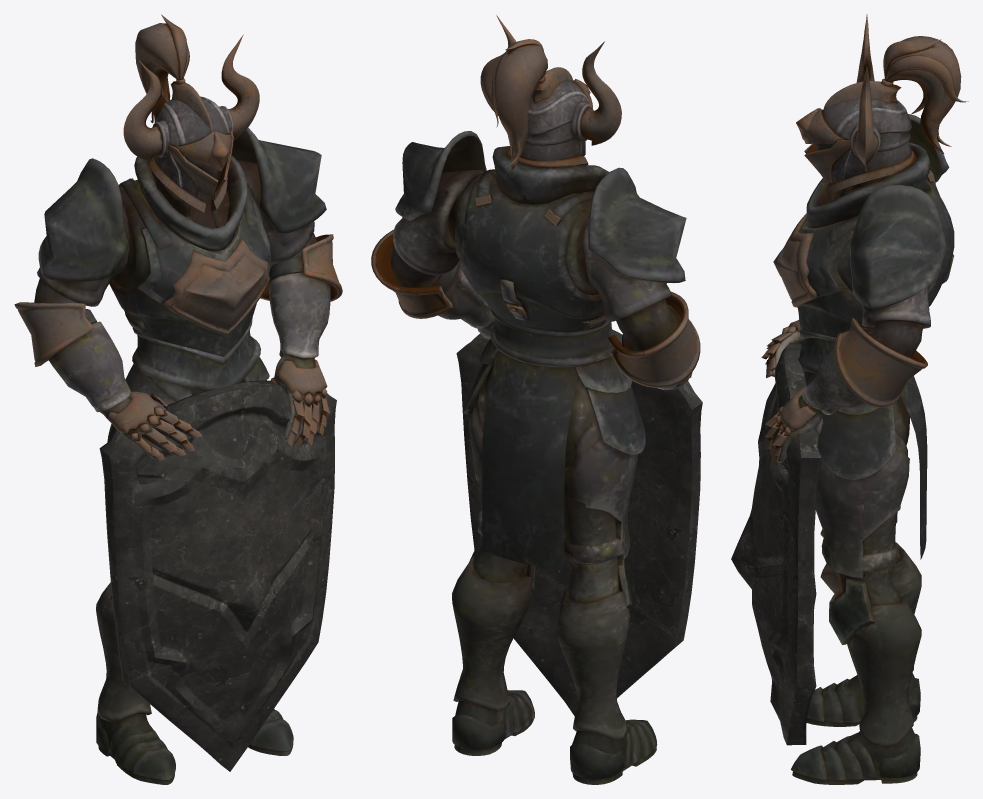
3 renders of one model, left to right at view 1: azimuth 30°, elevation 25°; view 2: azimuth 150°, elevation 25°; view 3: azimuth 270°, elevation 25°, orthographic. The views are drawn at different scales.
Visible parts, largest first — view 1: SM_Statue_BlackKnight_01_V1_LOD0; view 2: SM_Statue_BlackKnight_01_V1_LOD0; view 3: SM_Statue_BlackKnight_01_V1_LOD0.
Boxes of the visible parts, bbox=[...] form: SM_Statue_BlackKnight_01_V1_LOD0: bbox=[14, 14, 342, 784]; SM_Statue_BlackKnight_01_V1_LOD0: bbox=[371, 15, 702, 784]; SM_Statue_BlackKnight_01_V1_LOD0: bbox=[731, 14, 968, 784].
Bounding box in the file's own units: 1.88 × 4.16 × 1.26.
2 materials, 2 textured.
